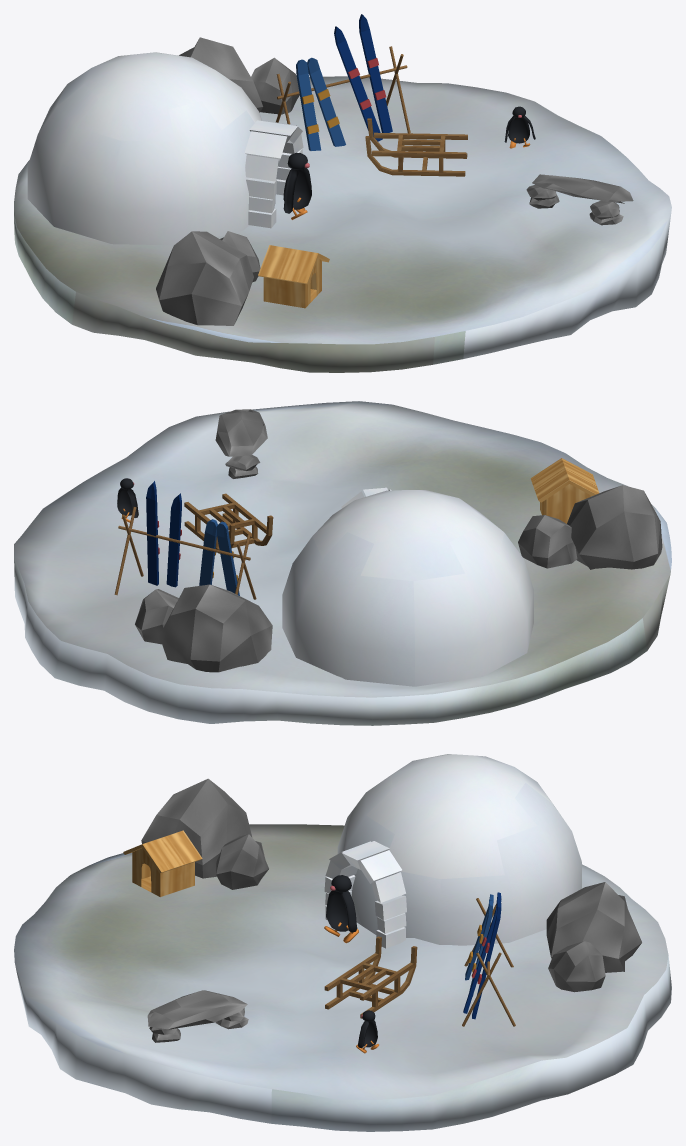
File: igloodoghouse.glb
The picture shows the model from 3 angles, top to bottom: view 1: azimuth 30°, elevation 25°; view 2: azimuth 150°, elevation 25°; view 3: azimuth 270°, elevation 25°; orthographic projection.
Visible parts, largest first — view 1: ground, Igloo, stone.002, Cube, sled, stone, stone.001, stone.008, ski board.005, ski board.002, ski board, ski board.001 (+7 smaller); view 2: ground, Igloo, stone, stone.002, Cube, stone.003, sled, stone.008, stone.001, ski board.005, ski board.002, ski board.001 (+1 smaller); view 3: ground, Igloo, stone, stone.002, Cube, sled, stone.008, stone.001, stone.003, body, Cube.010, Cube.009 (+2 smaller).
Part boxes in pixels (x1=…): ground: x1=14, y1=76, x2=671, y2=372; Igloo: x1=27, y1=52, x2=275, y2=245; stone.002: x1=156, y1=231, x2=253, y2=325; Cube: x1=258, y1=245, x2=329, y2=308; sled: x1=365, y1=118, x2=467, y2=176; stone: x1=179, y1=37, x2=263, y2=112; stone.001: x1=251, y1=57, x2=299, y2=114; stone.008: x1=532, y1=174, x2=633, y2=203; ski board.005: x1=359, y1=14, x2=392, y2=132; ski board.002: x1=334, y1=26, x2=382, y2=141; ski board: x1=307, y1=57, x2=345, y2=146; ski board.001: x1=296, y1=59, x2=321, y2=150; ground: x1=14, y1=401, x2=671, y2=725; Igloo: x1=282, y1=490, x2=533, y2=686; stone: x1=159, y1=584, x2=272, y2=672; stone.002: x1=567, y1=485, x2=662, y2=569; Cube: x1=530, y1=458, x2=599, y2=523; stone.003: x1=518, y1=515, x2=577, y2=568; sled: x1=184, y1=493, x2=273, y2=553; stone.008: x1=215, y1=409, x2=267, y2=456; stone.001: x1=135, y1=589, x2=178, y2=644; ski board.005: x1=146, y1=481, x2=158, y2=585; ski board.002: x1=166, y1=493, x2=181, y2=587; ski board.001: x1=216, y1=521, x2=239, y2=595; ground: x1=14, y1=824, x2=671, y2=1131; Igloo: x1=337, y1=754, x2=581, y2=945; stone: x1=546, y1=882, x2=641, y2=972; stone.002: x1=141, y1=778, x2=252, y2=878; Cube: x1=123, y1=830, x2=202, y2=896; sled: x1=324, y1=936, x2=417, y2=1018; stone.008: x1=147, y1=990, x2=247, y2=1029; stone.001: x1=548, y1=941, x2=605, y2=992; stone.003: x1=216, y1=834, x2=268, y2=889; body: x1=326, y1=875, x2=351, y2=931; Cube.010: x1=360, y1=850, x2=402, y2=883; Cube.009: x1=371, y1=872, x2=405, y2=902.
Bounding box in the file's own units: 8.79 × 2.68 × 8.94.
Materials: 13 (6 with a texture image).
